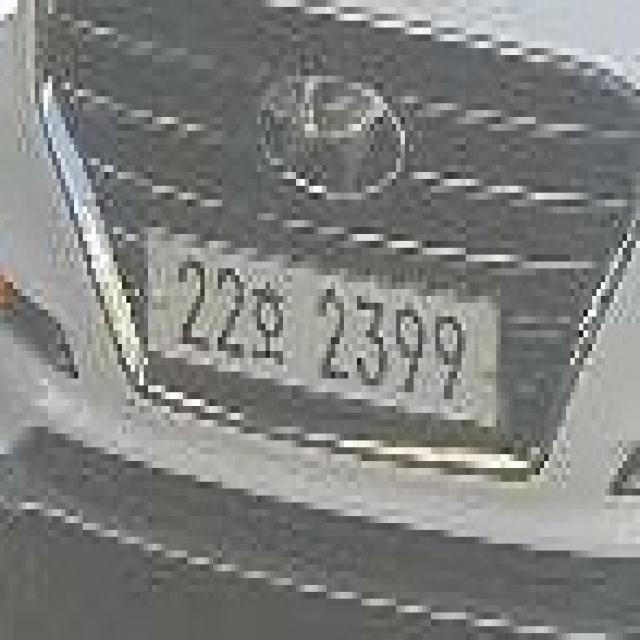2: (309, 281, 355, 387), (171, 254, 212, 352), (215, 255, 247, 361)
3: (355, 289, 395, 392)
9: (432, 303, 482, 412), (392, 299, 436, 403)
ho: (251, 269, 289, 370)
license_plate: (148, 228, 500, 433)
